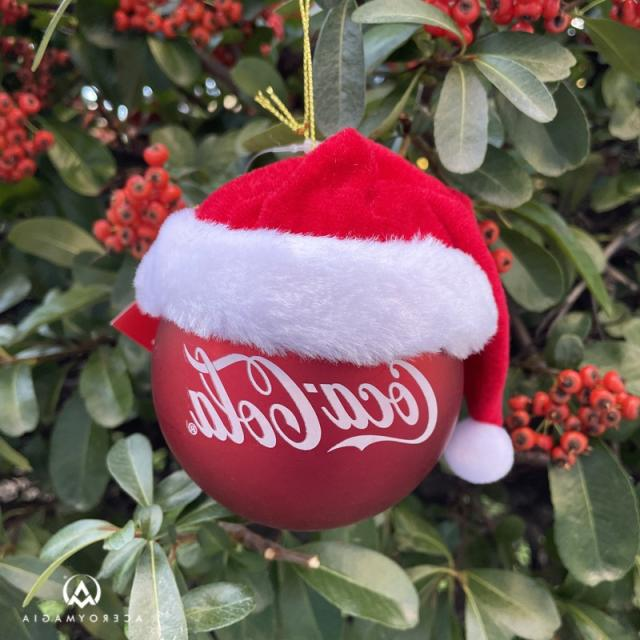coca cola: (176, 351, 440, 456)
